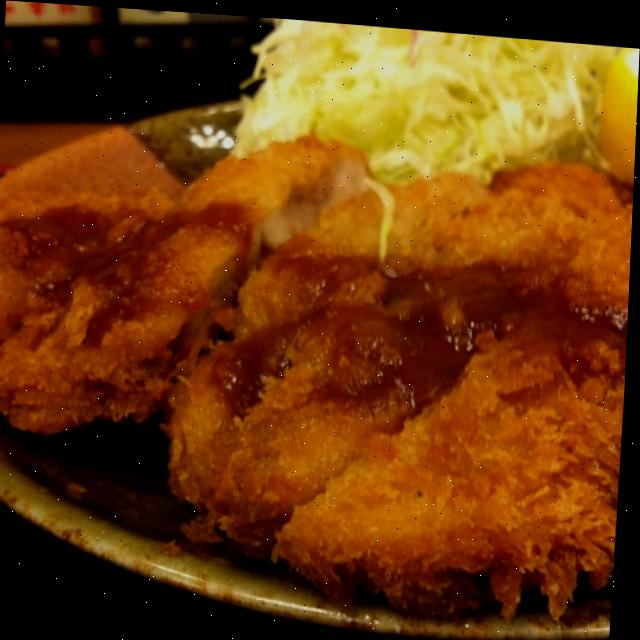鸡肉料理 含炸鸡: (0, 76, 637, 640)
